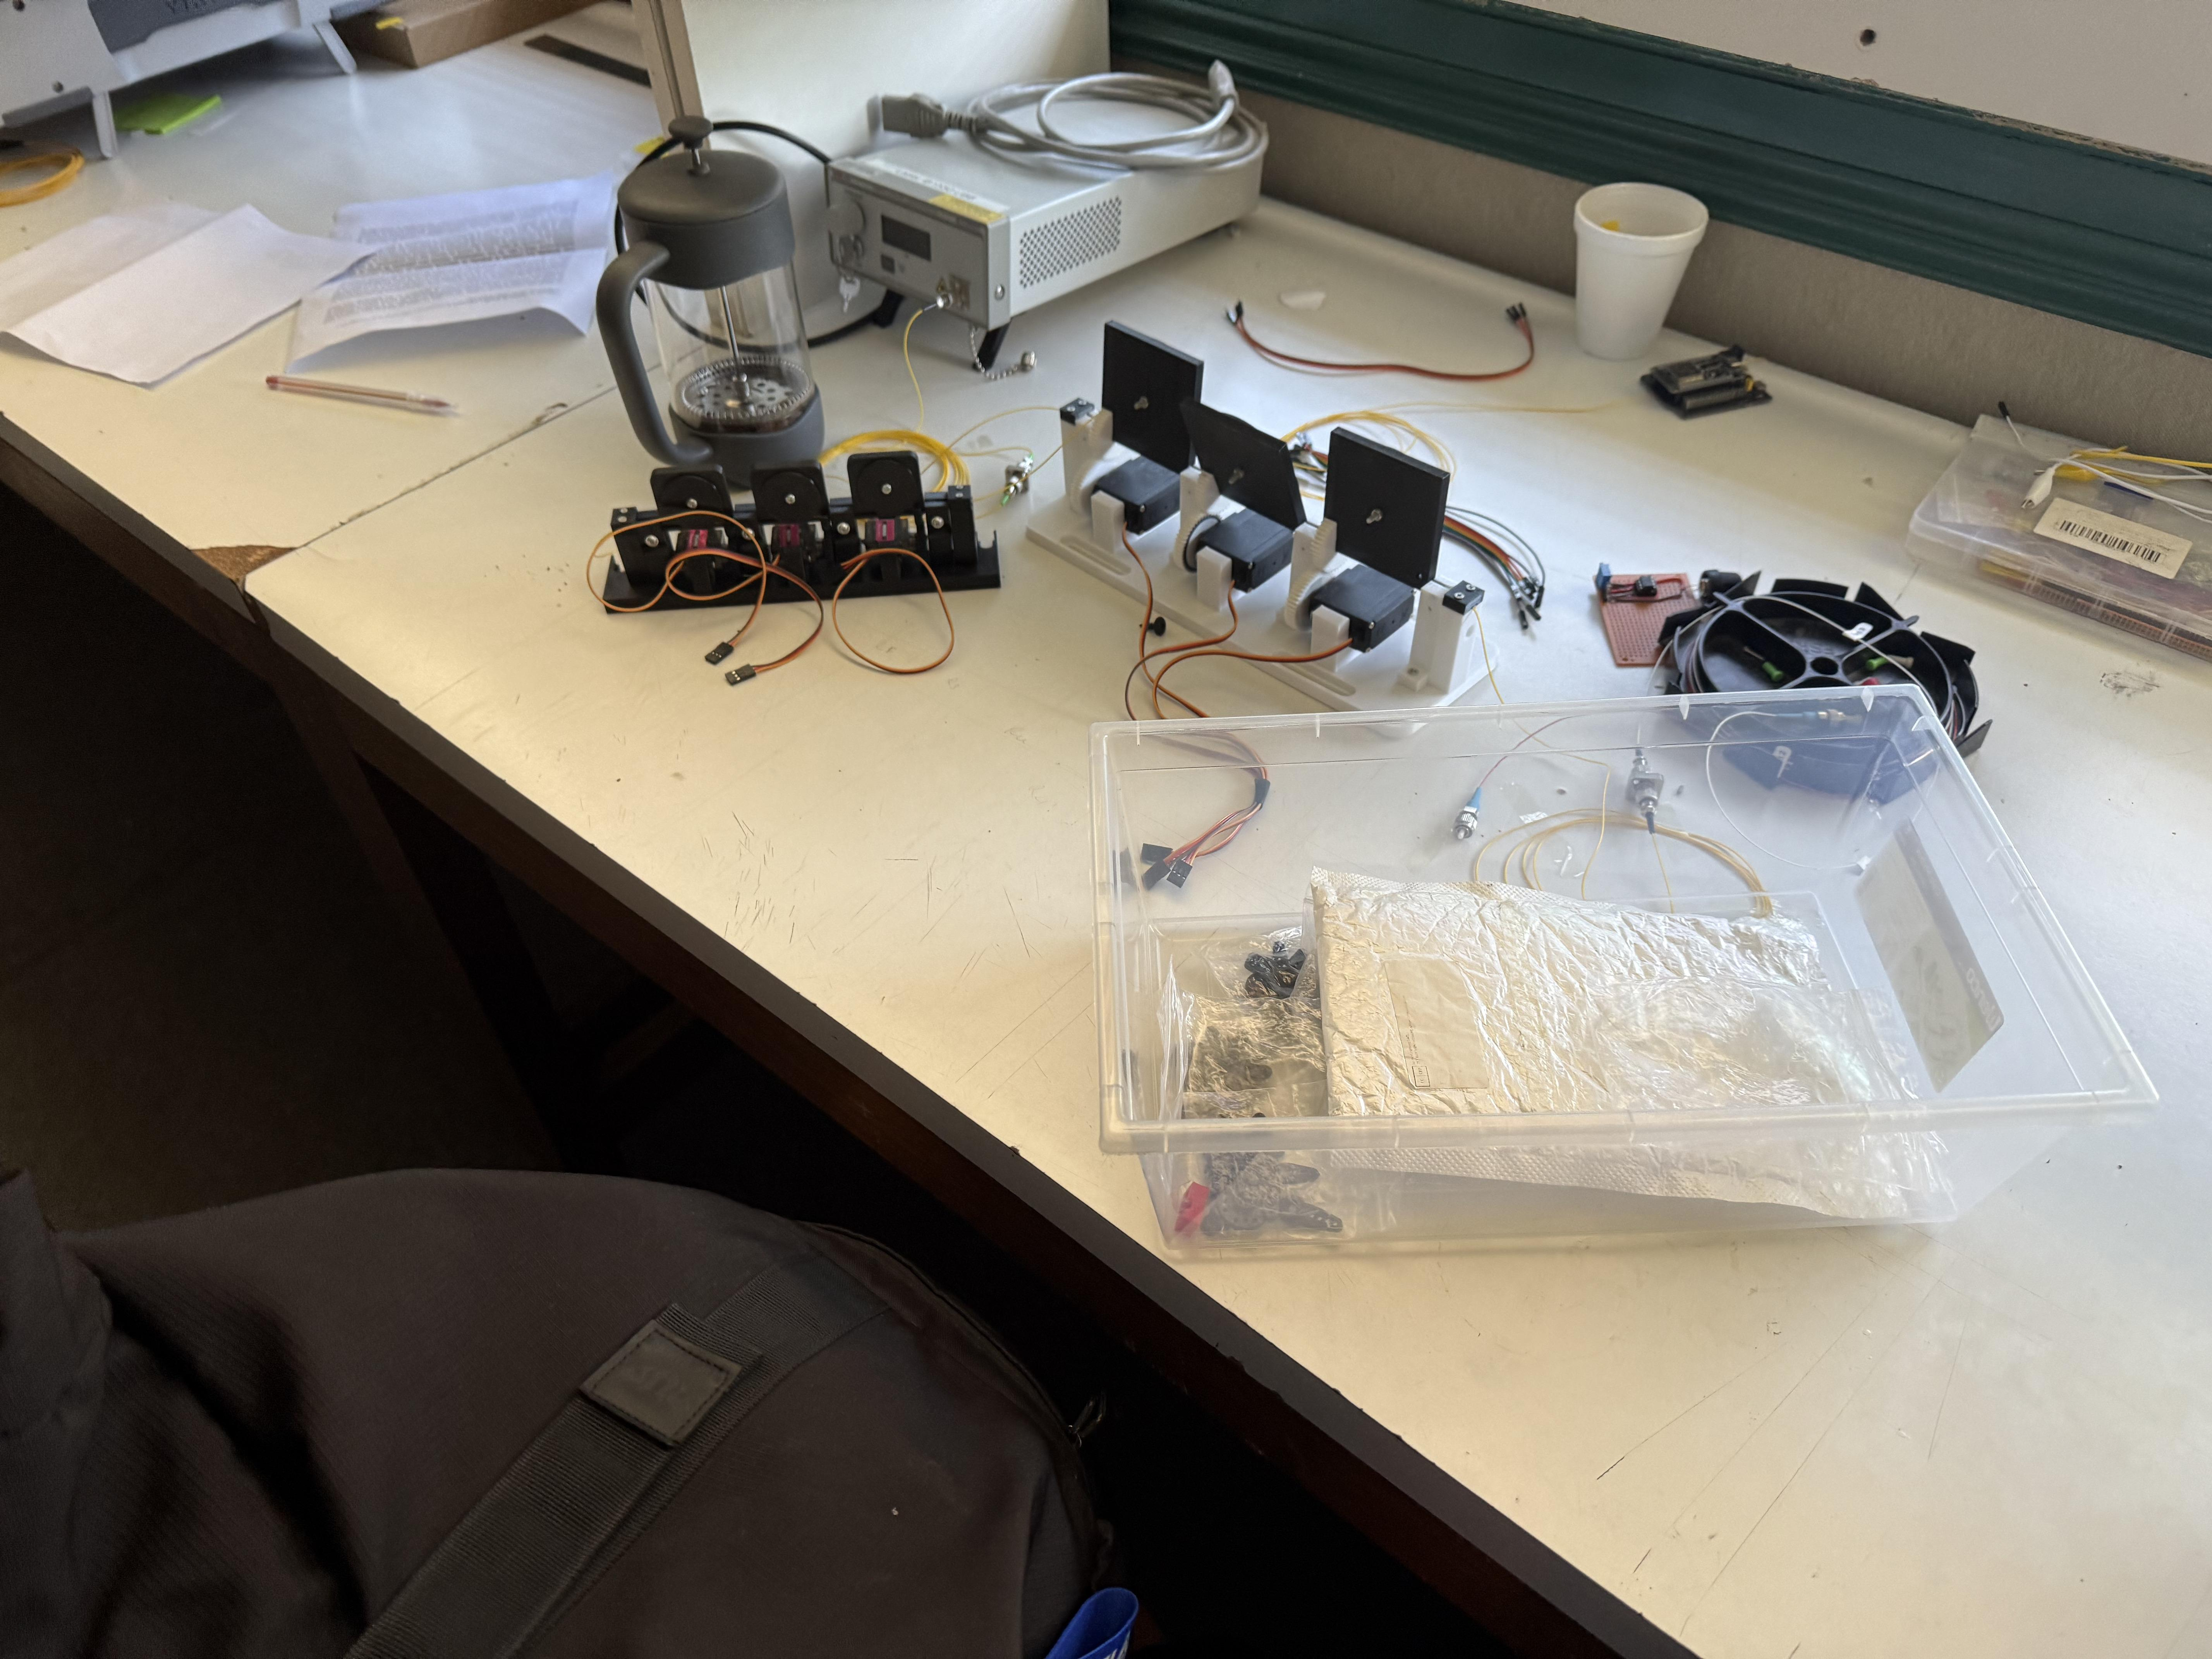laser: (813, 42, 1332, 361)
paddle_polarization_controller: (995, 319, 1573, 781), (557, 406, 1021, 673)
